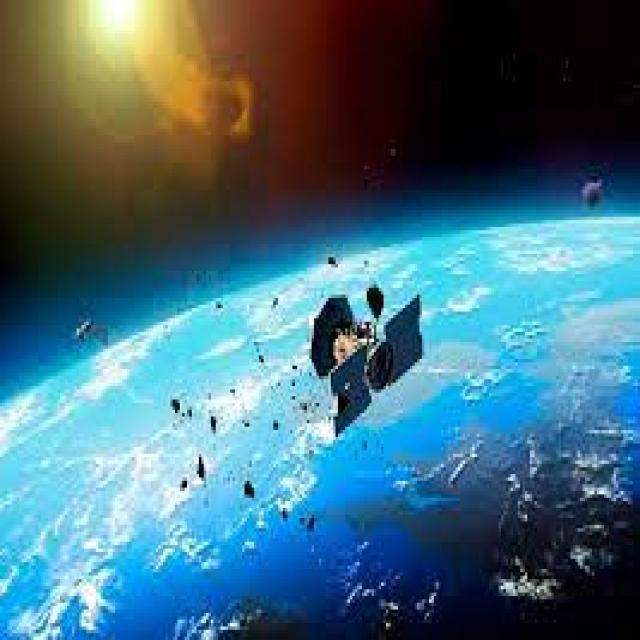debris: (50, 292, 113, 356), (221, 280, 286, 330), (243, 477, 293, 534), (170, 388, 217, 440), (358, 284, 393, 326), (578, 174, 608, 221), (177, 456, 219, 485), (301, 513, 324, 540)
sat: (307, 279, 432, 433)
